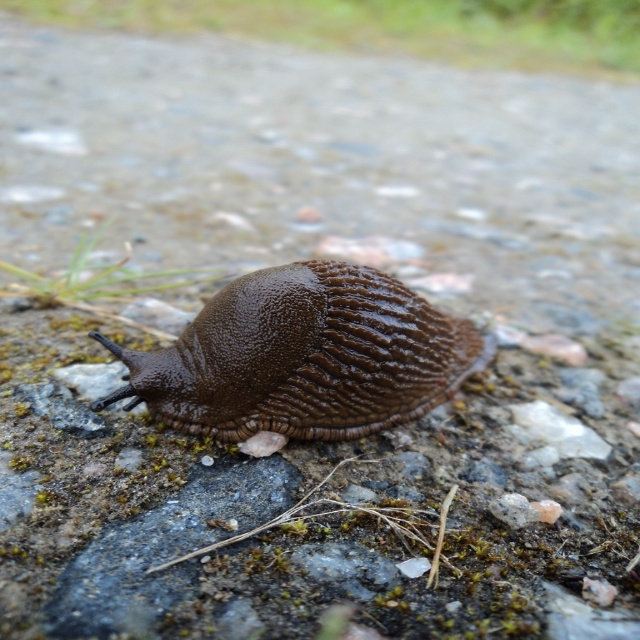Snail: (80, 256, 498, 459)
